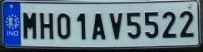character: (22, 11, 37, 39), (39, 12, 54, 40), (91, 13, 106, 40), (108, 12, 123, 39), (144, 11, 159, 38), (179, 11, 194, 37), (126, 12, 140, 39), (162, 11, 176, 38), (56, 13, 71, 38), (76, 12, 86, 40)
